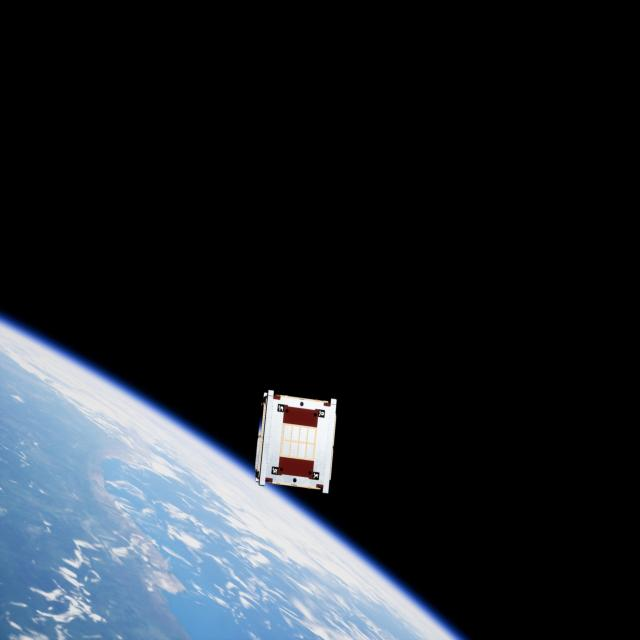medium_debris: (252, 388, 344, 498)
